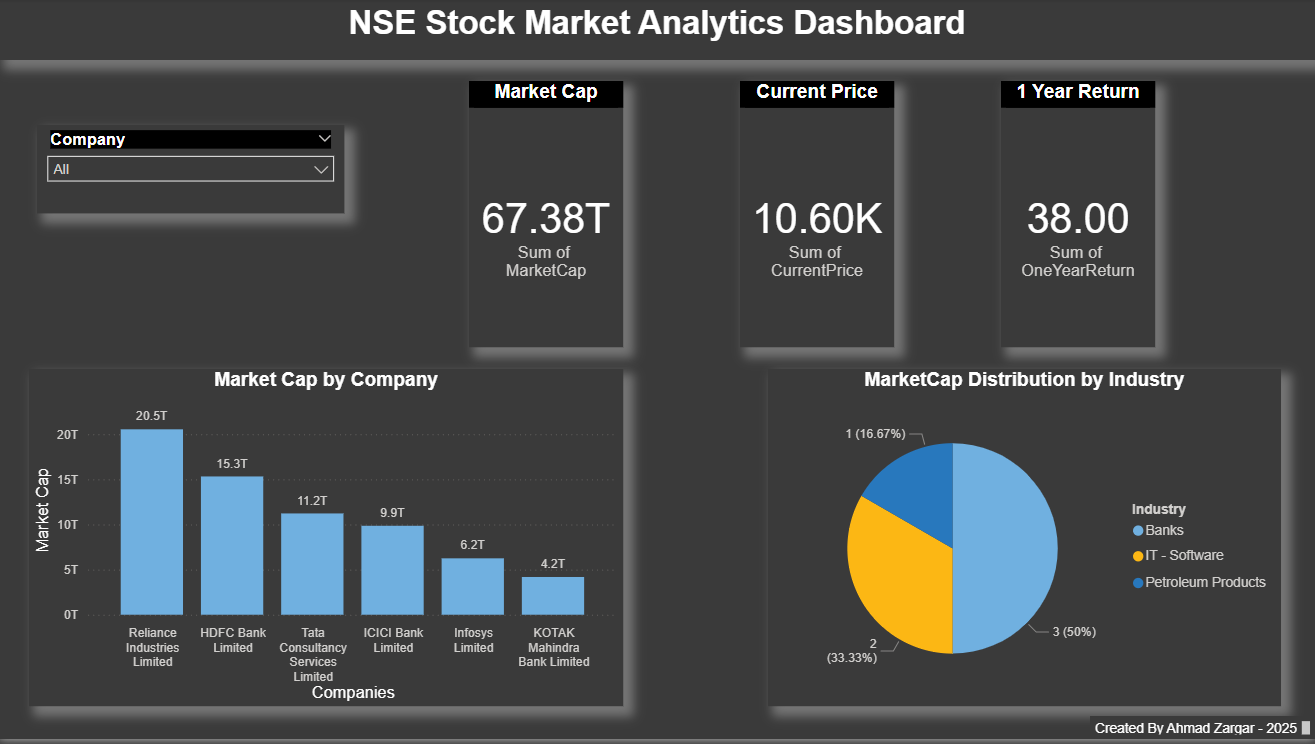

The dashboard page shown, as its layout file describes it:
{"tool":"powerbi","page":{"name":"Page 1","canvas":[1280,720],"ordinal":0},"visuals":[{"type":"card","title":"Current Price","fields":{"Values":["Sum(Sheet1.CurrentPrice)"]},"box":[721,80,150,259],"z":0},{"type":"card","title":"Market Cap","fields":{"Values":["Sum(Sheet1.MarketCap)"]},"box":[457.3,80,150,259.1],"z":1000},{"type":"card","title":"1 Year Return","fields":{"Values":["Sum(Sheet1.OneYearReturn)"]},"box":[975,80,150,259],"z":2000},{"type":"slicer","fields":{"Values":["Sheet1.Company"]},"box":[37.3,122.7,299.1,86.4],"z":3000},{"type":"columnChart","title":"Market Cap by Company","fields":{"Category":["Sheet1.Company"],"Y":["Sum(Sheet1.MarketCap)"]},"box":[29,360,578,328],"z":4000},{"type":"textbox","box":[0,0,1280,59.3],"z":5000},{"type":"pieChart","title":"MarketCap Distribution by Industry","fields":{"Category":["Sheet1.Industry"],"Y":["CountNonNull(Sheet1.MarketCap)"]},"box":[748,360,499,328],"z":6000},{"type":"textbox","box":[1061,697,219,23],"z":6001}]}

Visuals, with their boxes in screenshot pixels (x1, y1, x2, y2), scaled from the page's 1280x720 canvas onto the 1315x744 screenshot:
"Current Price" card: locate(741, 83, 895, 350)
"Market Cap" card: locate(470, 83, 624, 350)
"1 Year Return" card: locate(1002, 83, 1156, 350)
slicer - Sheet1.Company: locate(38, 127, 346, 216)
"Market Cap by Company" columnChart: locate(30, 372, 624, 711)
textbox: locate(0, 0, 1314, 61)
"MarketCap Distribution by Industry" pieChart: locate(768, 372, 1281, 711)
textbox: locate(1090, 720, 1314, 743)
